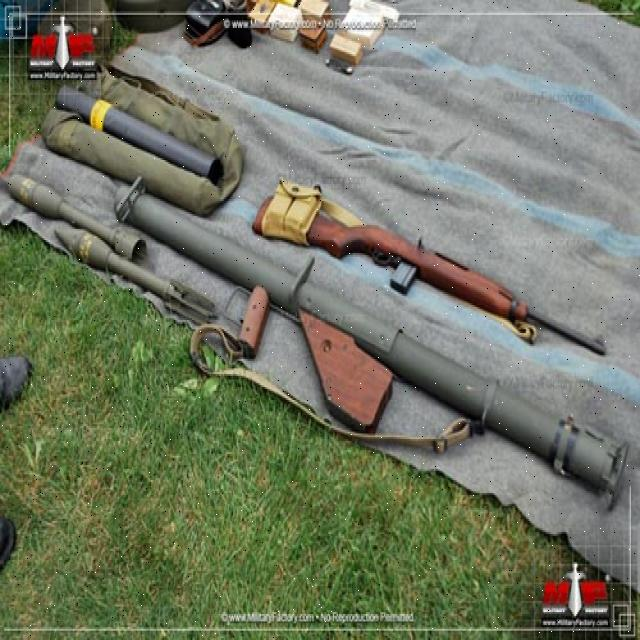bazooka: (113, 179, 634, 509)
